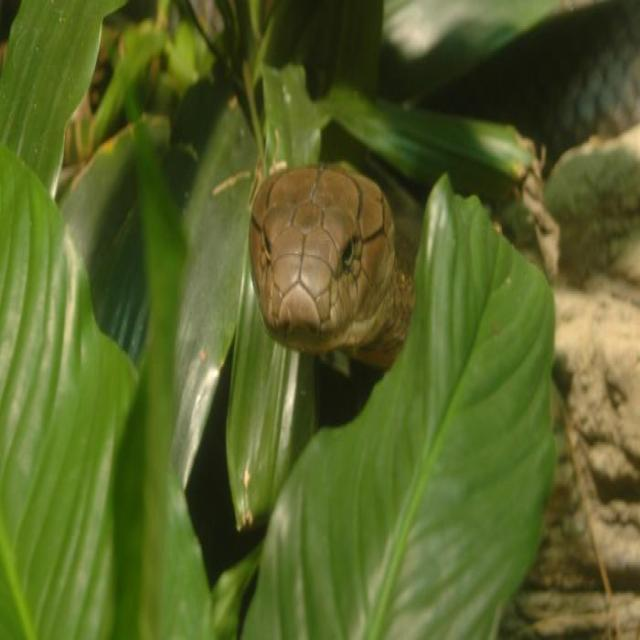Snake: (247, 0, 639, 372)
